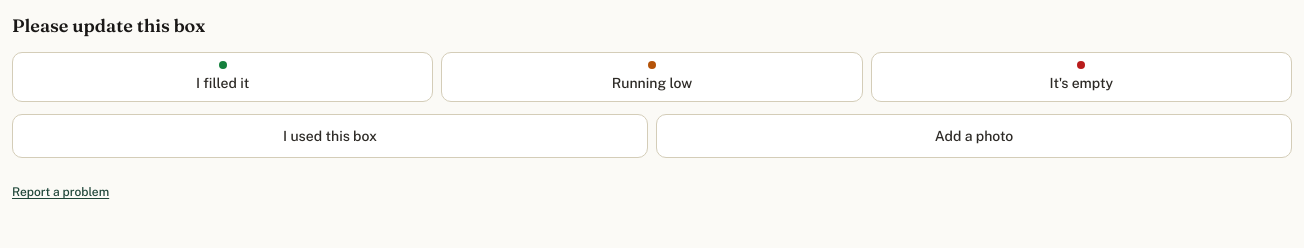
it: BoxCheckinPanel — a queued tap that never resolves is not stuck forever › window.turnstile never having loaded at all — the 15s timeout fails the queued tap (no widget to fall back to)
Click the button "I used this box": (330, 136) [12,114,648,158]
Wait 15000 ms
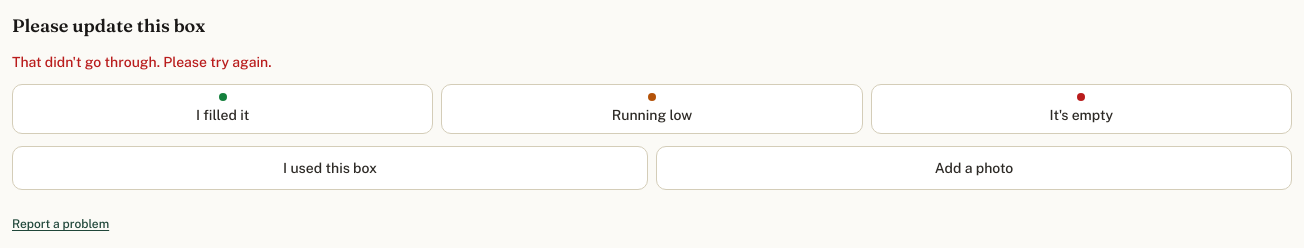
Expected: the button "I used this box" is enabled, [12,146,648,190]
Now the text "That didn't go through. Please try again." is shown, box [12,54,272,70]
